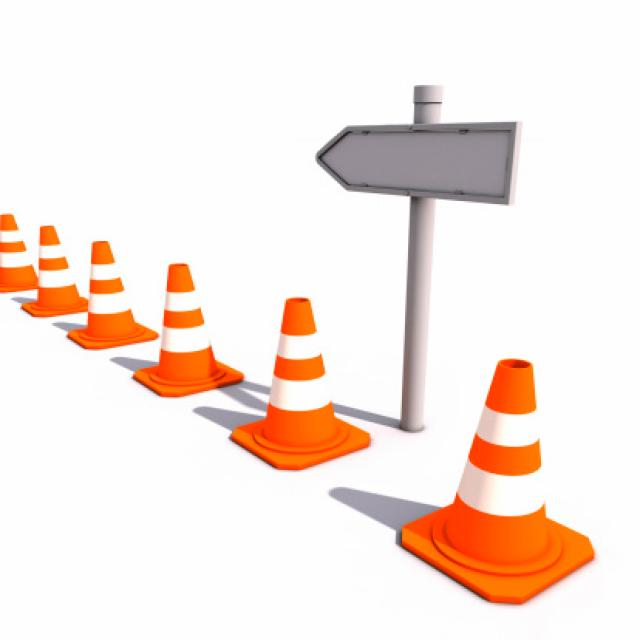cone: (401, 358, 596, 605), (231, 296, 370, 470), (133, 264, 243, 398), (68, 240, 158, 350), (22, 226, 89, 316), (0, 212, 39, 292)
